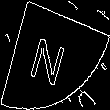N_N: (33, 25, 77, 85)
